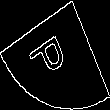P_NE: (32, 27, 78, 83)
